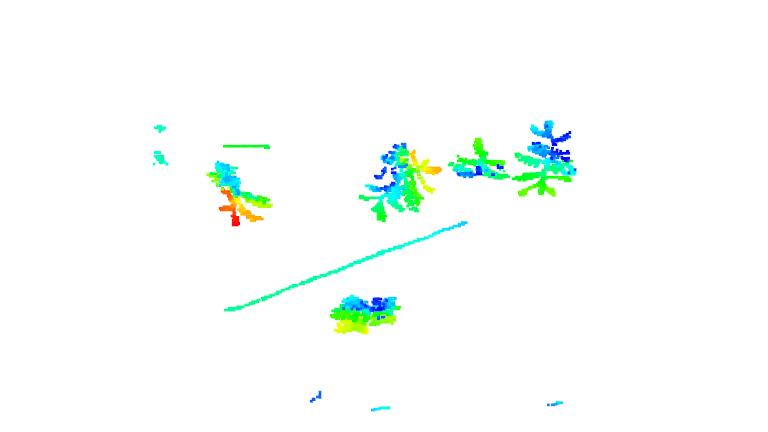chickpea: (358, 139, 443, 221), (510, 118, 581, 200), (207, 157, 275, 230), (329, 290, 402, 337), (448, 134, 509, 185)
